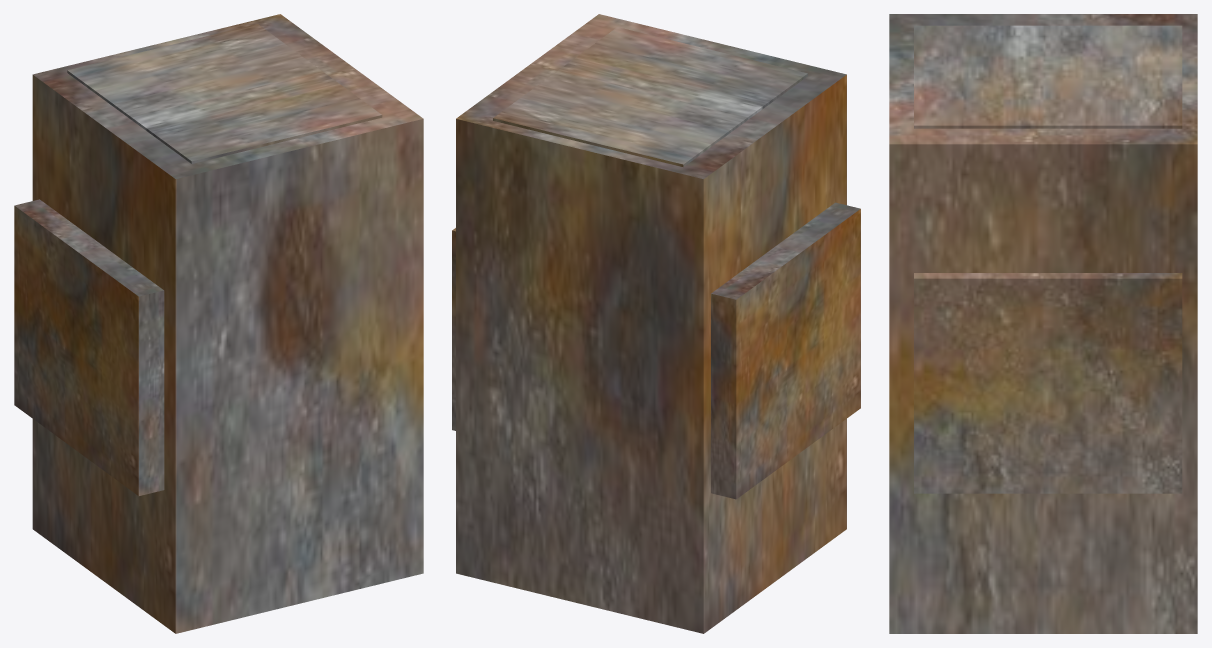
Rendered from Shaft.obj.
3 renders of one model, left to right at view 1: azimuth 30°, elevation 25°; view 2: azimuth 150°, elevation 25°; view 3: azimuth 270°, elevation 25°, orthographic. The views are drawn at different scales.
Visible parts, largest first — view 1: Cube.003, Cube.001; view 2: Cube.003, Cube.001; view 3: Cube.003, Cube.001.
Part boxes in pixels (x1,y1,x2,y2): Cube.003: (32, 14, 423, 633); Cube.001: (14, 24, 382, 495); Cube.003: (456, 14, 846, 633); Cube.001: (452, 27, 860, 499); Cube.003: (889, 14, 1197, 633); Cube.001: (914, 25, 1182, 493).
Bounding box in the file's own units: 99.99 × 154 × 87.21.
